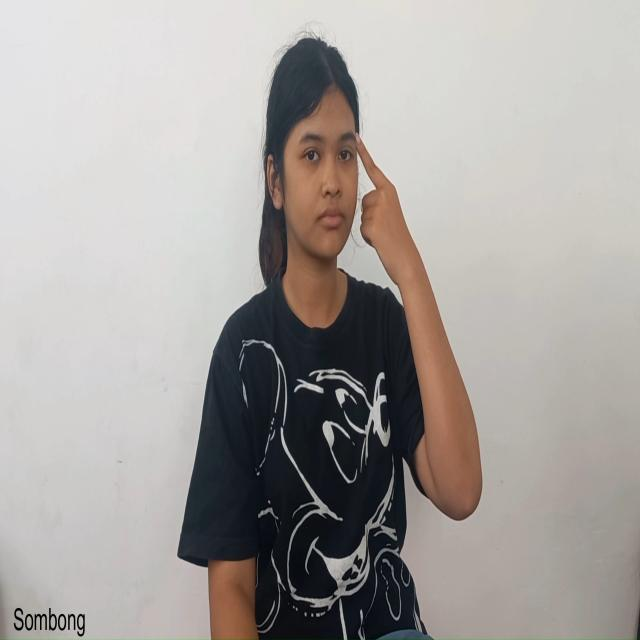Sombong -BISINDO-: (353, 127, 484, 526)
